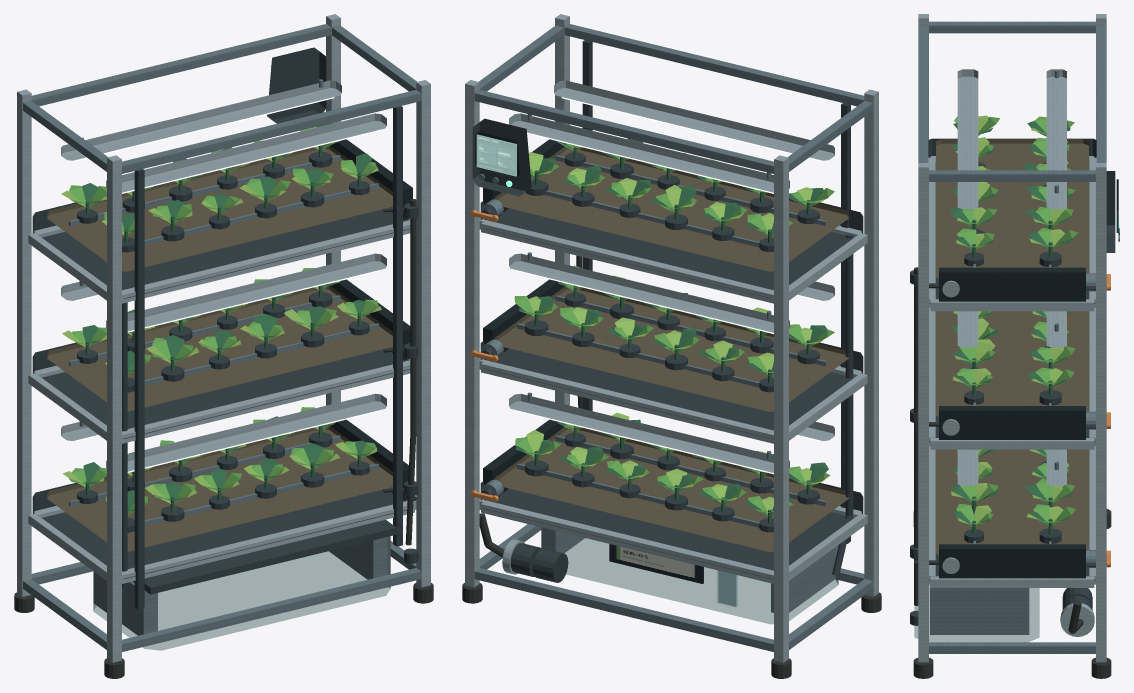
Rendered from grow_tray.glb.
3 renders of one model, left to right at view 1: azimuth 30°, elevation 25°; view 2: azimuth 150°, elevation 25°; view 3: azimuth 270°, elevation 25°, orthographic.
Parts seen in each view (by area): view 1: static__alloy, static__substrate, static__graphite, static__trim, LED_Light_Housing__alloy, Reservoir__tank, Crop_Pods__graphite, Crop_Canopy__leaf3, Crop_Canopy__leaf1, Reservoir__graphite, Crop_Canopy__leaf2, static__carbon (+5 smaller); view 2: static__substrate, static__alloy, static__trim, static__graphite, LED_Light_Housing__alloy, Crop_Pods__graphite, Crop_Canopy__leaf3, Reservoir__tank, Crop_Canopy__leaf1, Crop_Canopy__leaf2, static__carbon, Return_Line__graphite (+10 smaller); view 3: static__substrate, static__alloy, static__carbon, static__trim, LED_Light_Housing__alloy, Crop_Canopy__leaf1, Crop_Canopy__leaf3, Crop_Canopy__leaf2, static__graphite, Crop_Pods__graphite, Water_Pipe__rubber, Reservoir__tank (+6 smaller).
Boxes of the visible parts, left/top/right/bottom form: static__alloy: left=17, top=14, right=430, bottom=662; static__substrate: left=47, top=146, right=392, bottom=551; static__graphite: left=32, top=106, right=418, bottom=609; static__trim: left=23, top=24, right=421, bottom=651; LED_Light_Housing__alloy: left=61, top=80, right=386, bottom=471; Reservoir__tank: left=93, top=536, right=390, bottom=650; Crop_Pods__graphite: left=77, top=151, right=369, bottom=532; Crop_Canopy__leaf3: left=82, top=123, right=372, bottom=522; Crop_Canopy__leaf1: left=68, top=126, right=378, bottom=515; Reservoir__graphite: left=133, top=519, right=396, bottom=594; Crop_Canopy__leaf2: left=61, top=140, right=381, bottom=514; static__carbon: left=330, top=139, right=412, bottom=500; static__substrate: left=495, top=146, right=848, bottom=551; static__alloy: left=465, top=14, right=878, bottom=662; static__trim: left=474, top=24, right=872, bottom=651; static__graphite: left=480, top=40, right=863, bottom=579; LED_Light_Housing__alloy: left=509, top=80, right=834, bottom=472; Crop_Pods__graphite: left=525, top=152, right=819, bottom=532; Crop_Canopy__leaf3: left=515, top=138, right=828, bottom=522; Reservoir__tank: left=564, top=538, right=838, bottom=624; Crop_Canopy__leaf1: left=514, top=142, right=834, bottom=515; Crop_Canopy__leaf2: left=526, top=145, right=825, bottom=511; static__carbon: left=483, top=139, right=564, bottom=492; Return_Line__graphite: left=832, top=234, right=853, bottom=575; static__substrate: left=936, top=139, right=1088, bottom=554; static__alloy: left=918, top=14, right=1106, bottom=662; static__carbon: left=939, top=267, right=1085, bottom=578; static__trim: left=918, top=21, right=1105, bottom=653; LED_Light_Housing__alloy: left=957, top=69, right=1066, bottom=485; Crop_Canopy__leaf1: left=954, top=116, right=1078, bottom=526; Crop_Canopy__leaf3: left=949, top=120, right=1073, bottom=533; Crop_Canopy__leaf2: left=951, top=115, right=1069, bottom=525; static__graphite: left=910, top=138, right=1096, bottom=625; Crop_Pods__graphite: left=964, top=162, right=1061, bottom=543; Water_Pipe__rubber: left=914, top=267, right=938, bottom=605; Reservoir__tank: left=914, top=584, right=1039, bottom=642.
Bounding box in the file's own units: 1.37 × 2.06 × 0.7693.
Materials: 18 (16 with a texture image).
